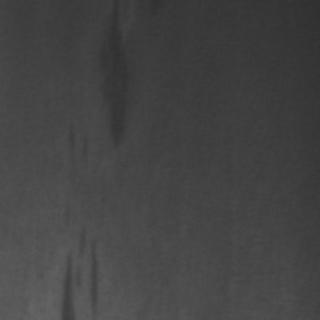inclusion: (83, 0, 137, 152), (54, 212, 104, 316)
